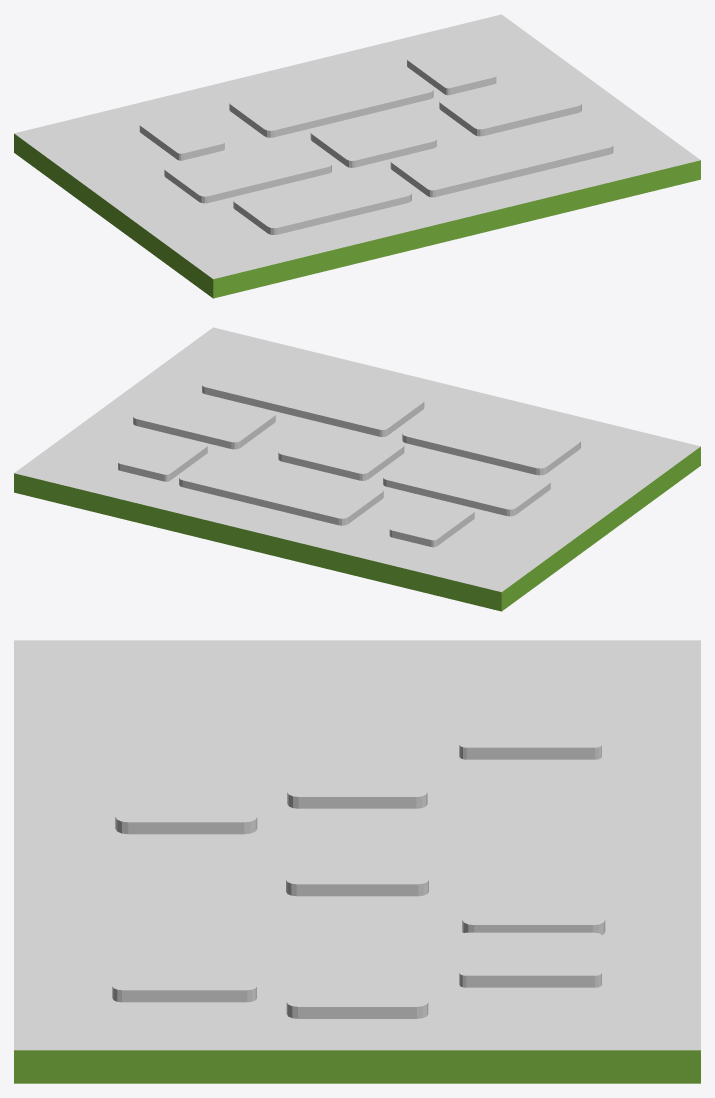
File: Al-Ikhlas_Asset.fbx
3 views of the same model, one above another, from view 1: azimuth 30°, elevation 25°; view 2: azimuth 150°, elevation 25°; view 3: azimuth 270°, elevation 25° (orthographic). The views are drawn at different scales.
Parts seen in each view (by area): view 1: 0, 7, 2, 8, 6, 4, 5, 1, 3; view 2: 0, 7, 2, 8, 6, 4, 5, 1, 3; view 3: 0, 7, 2, 8, 6, 4, 5, 1, 3.
Boxes of the visible parts, x1,y1,x2,y2 form: 0: (14, 14, 700, 298); 7: (390, 116, 613, 197); 2: (229, 61, 433, 137); 8: (233, 165, 411, 234); 6: (164, 136, 331, 203); 4: (439, 75, 581, 136); 5: (310, 111, 436, 167); 1: (407, 47, 496, 95); 3: (139, 113, 224, 160); 0: (14, 327, 700, 611); 7: (202, 356, 424, 436); 2: (179, 449, 383, 525); 8: (402, 406, 580, 475); 6: (383, 449, 550, 516); 4: (133, 388, 275, 449); 5: (278, 424, 404, 480); 1: (118, 433, 207, 481); 3: (389, 500, 474, 547); 0: (14, 640, 700, 1083); 7: (112, 835, 256, 1002); 2: (462, 783, 605, 934); 8: (115, 702, 257, 834); 6: (287, 686, 427, 808); 4: (286, 917, 428, 1018); 5: (286, 809, 428, 896); 1: (459, 932, 601, 987); 3: (459, 708, 601, 759).
Bounding box in the file's own units: 216 × 11.25 × 153.
